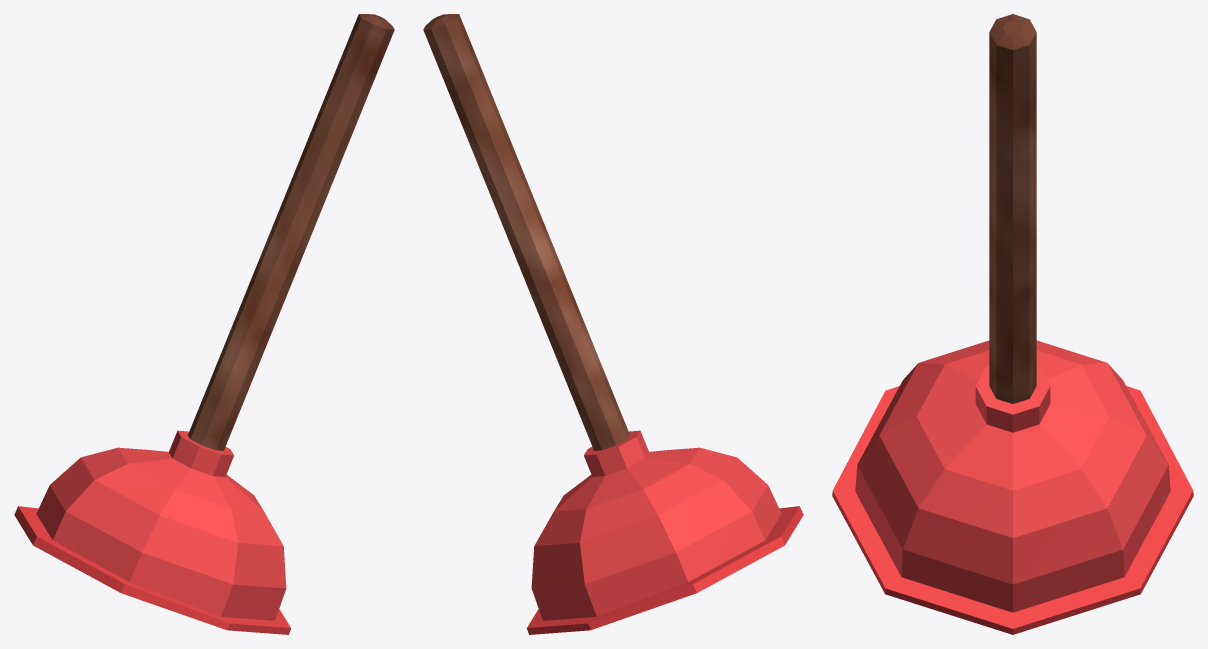
File: PLUNGER HAT.fbx
3 views of the same model, side by side, from view 1: azimuth 30°, elevation 25°; view 2: azimuth 150°, elevation 25°; view 3: azimuth 270°, elevation 25° (orthographic). The views are drawn at different scales.
Visible parts, largest first — view 1: PLUNGER_HAT; view 2: PLUNGER_HAT; view 3: PLUNGER_HAT.
Boxes of the visible parts, left/top/right/bottom form: PLUNGER_HAT: left=14, top=14, right=394, bottom=634; PLUNGER_HAT: left=423, top=14, right=803, bottom=634; PLUNGER_HAT: left=832, top=14, right=1193, bottom=634.
Bounding box in the file's own units: 23.35 × 35.05 × 17.03.
